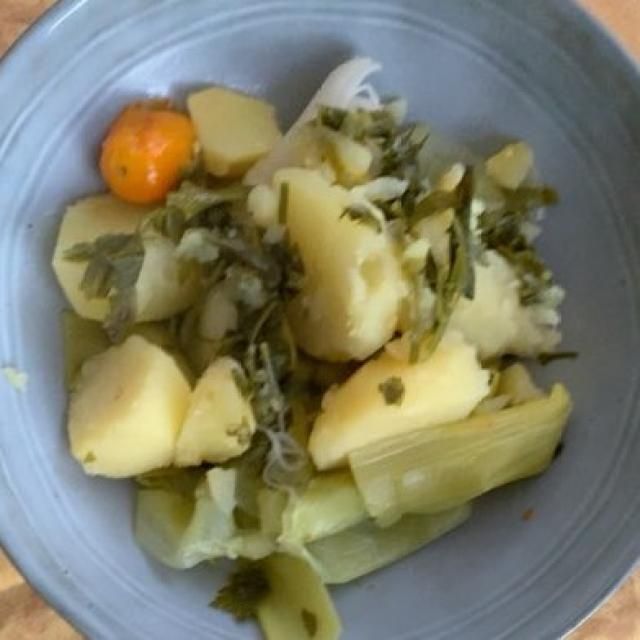leek: (150, 55, 572, 637)
potatoes: (52, 83, 564, 483)
tomato: (97, 96, 198, 199)
